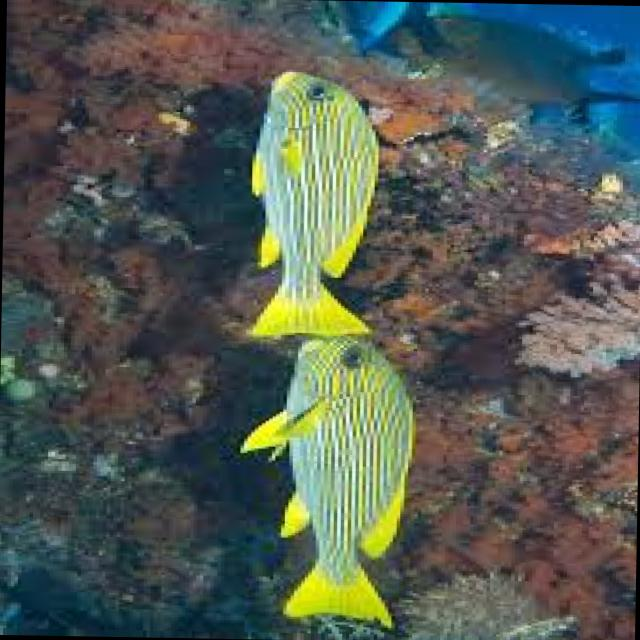RibbonedSweetlips: (235, 331, 422, 630), (244, 69, 386, 341)
